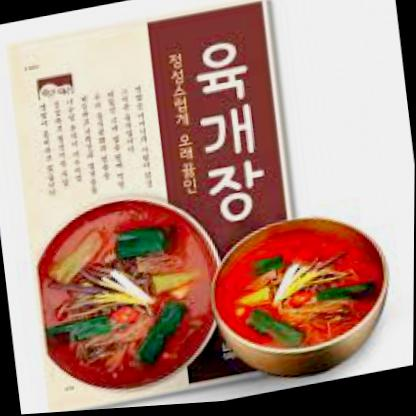spicy yuke jang: (30, 189, 226, 403), (209, 203, 400, 373)
